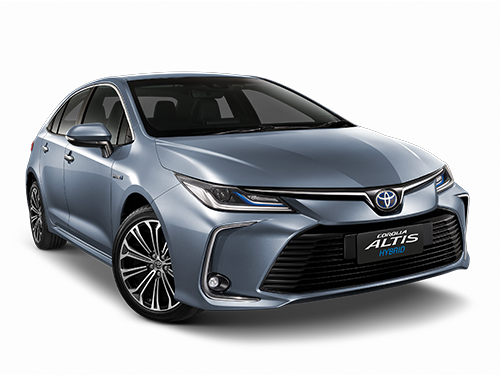sedan: (23, 68, 473, 322)
